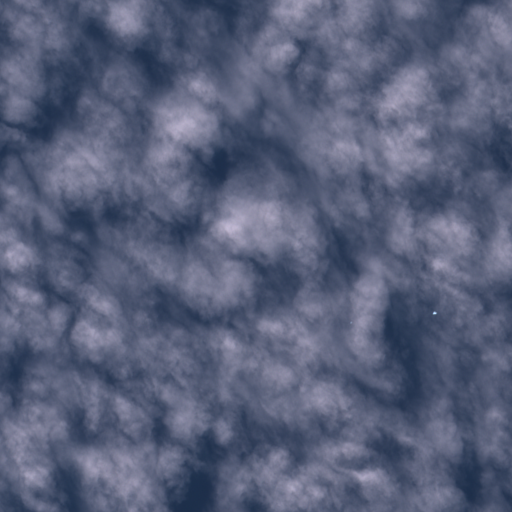Iceberg: (433, 311, 436, 314)
